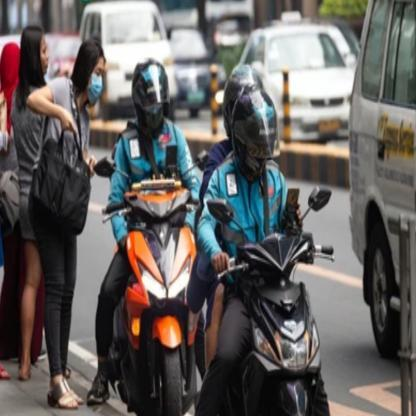helmet: (230, 83, 279, 184), (130, 57, 171, 135)
nohelmet: (72, 38, 107, 109), (20, 24, 51, 82)
